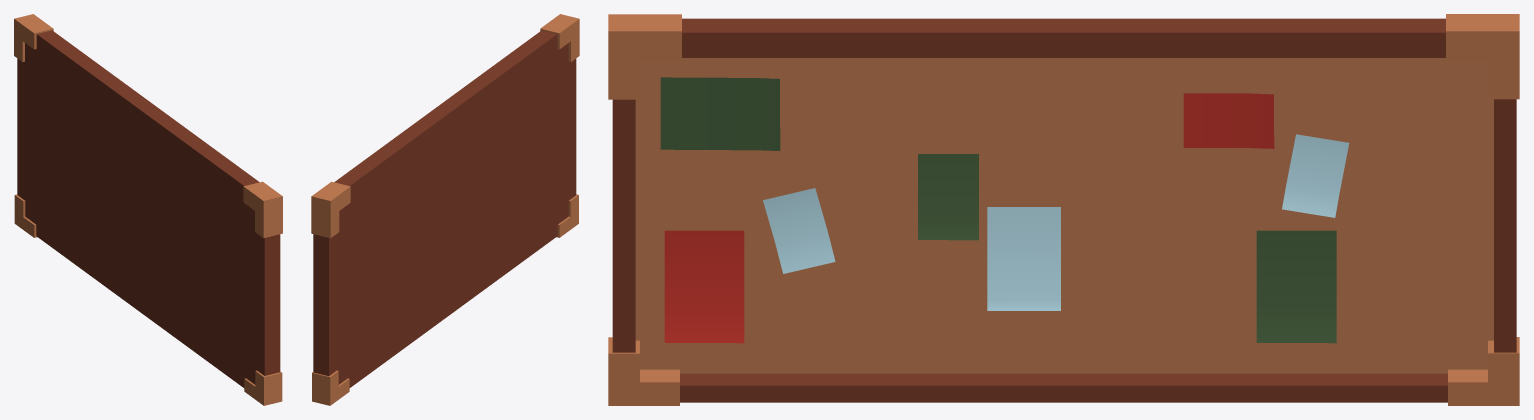
Rendered from Board_l 1.fbx.
The picture shows the model from 3 angles, left to right: view 1: azimuth 30°, elevation 25°; view 2: azimuth 150°, elevation 25°; view 3: azimuth 270°, elevation 25°; orthographic projection. The views are drawn at different scales.
Visible parts, largest first — view 1: Board; view 2: Board; view 3: Board.
Boxes of the visible parts, <box> form: Board: <box>14,14,282,405</box>; Board: <box>311,14,579,405</box>; Board: <box>608,14,1519,405</box>.
Bounding box in the file's own units: 18.22 × 401 × 182.
